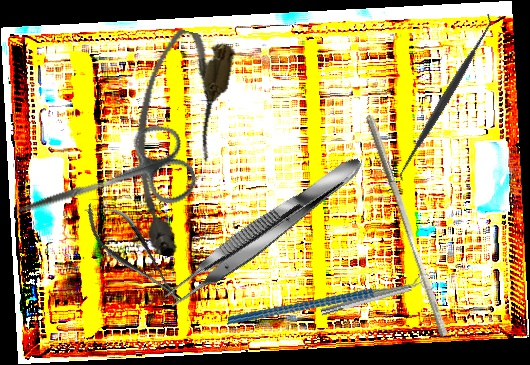Cannula: (109, 24, 239, 262)
Chopper: (227, 243, 423, 351)
Fixation Ring: (318, 272, 435, 321)
Iris Scissors: (2, 116, 202, 254)
Micro Scissor: (74, 189, 194, 317)
Pusher: (356, 114, 457, 338)
Spatula Surgical: (388, 11, 503, 184)
Tissue Forceps: (158, 148, 371, 316)
